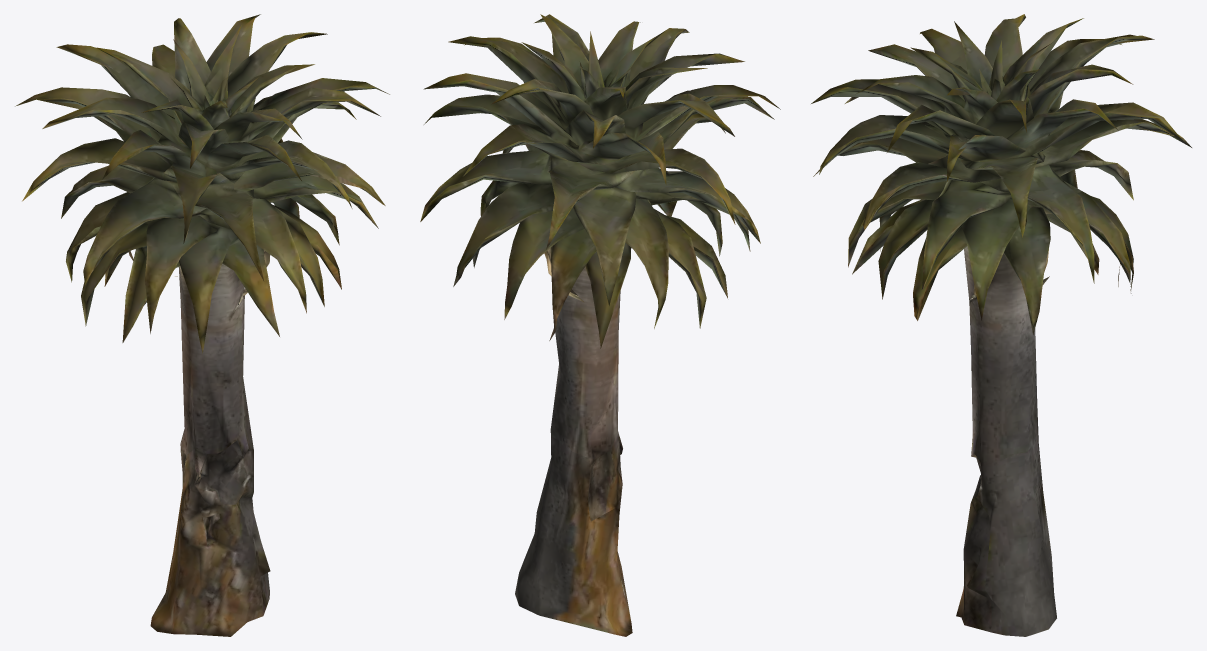
The model's file is quiver2.glb.
3 views of the same model, side by side, from view 1: azimuth 30°, elevation 25°; view 2: azimuth 150°, elevation 25°; view 3: azimuth 270°, elevation 25° (orthographic).
Visible parts, largest first — view 1: lod1; view 2: lod1; view 3: lod1.
Part boxes in pixels (<box>): lod1: <box>15,14,389,636</box>; lod1: <box>420,14,780,636</box>; lod1: <box>811,14,1191,636</box>.
Bounding box in the file's own units: 2.64 × 4.48 × 2.69.
1 material, 1 textured.
